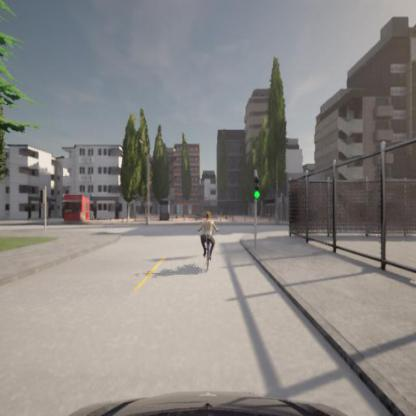bike: (196, 214, 219, 271)
traffic_light_green: (254, 174, 262, 200)
